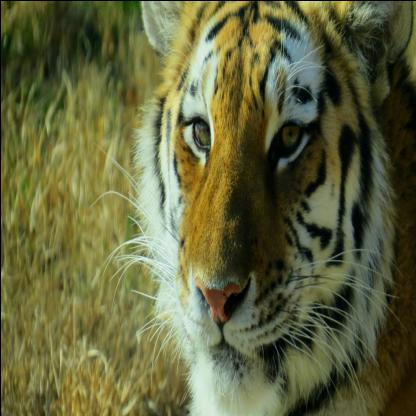tiger: (140, 1, 389, 398)
